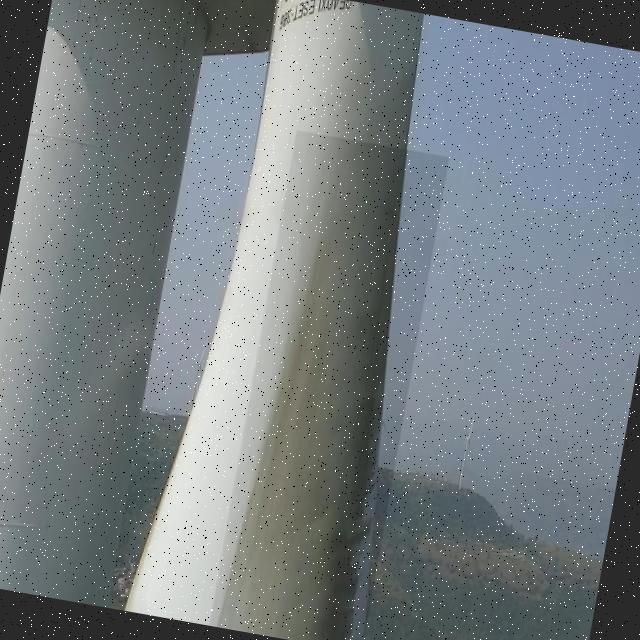Dirt: (212, 201, 403, 640)
